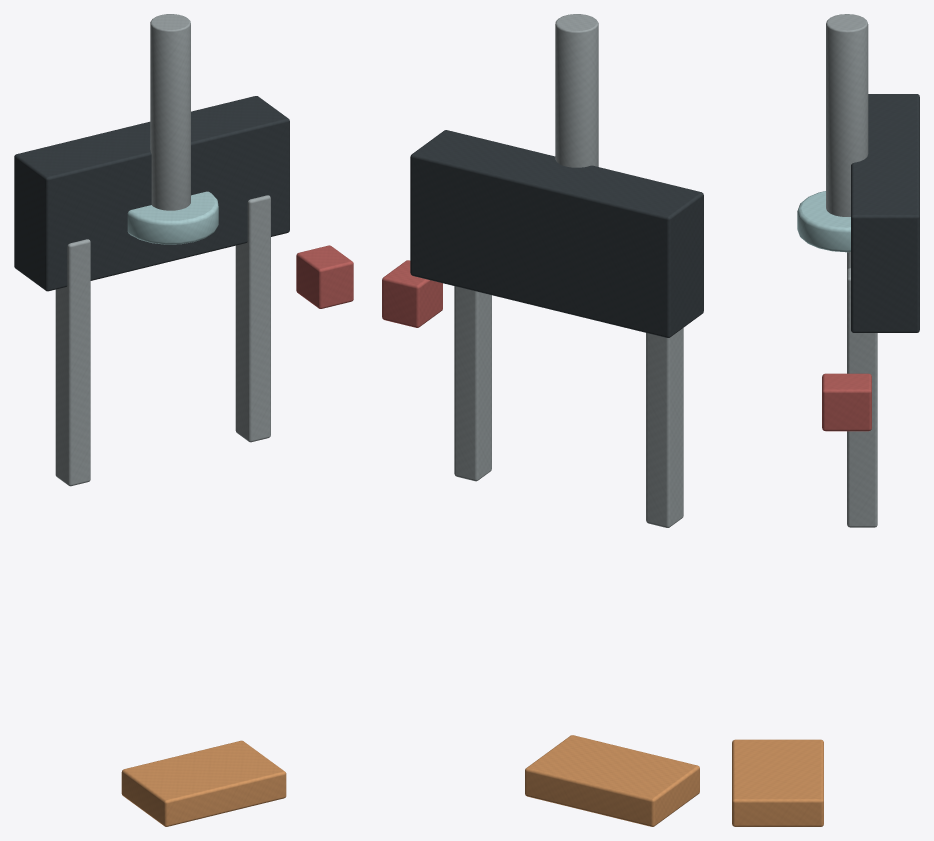
The model's file is ChemicalSafetyShower.fbx.
3 renders of one model, left to right at view 1: azimuth 30°, elevation 25°; view 2: azimuth 150°, elevation 25°; view 3: azimuth 270°, elevation 25°, orthographic. The views are drawn at different scales.
Parts seen in each view (by area): view 1: ChemicalSafetyShower_Mesh; view 2: ChemicalSafetyShower_Mesh; view 3: ChemicalSafetyShower_Mesh.
Part boxes in pixels (left/top/right/bottom): ChemicalSafetyShower_Mesh: left=14, top=14, right=353, bottom=826; ChemicalSafetyShower_Mesh: left=382, top=14, right=703, bottom=826; ChemicalSafetyShower_Mesh: left=732, top=14, right=919, bottom=826.
Size of the model in its own units: 91.5 by 223 by 49.
5 materials, 5 textured.
